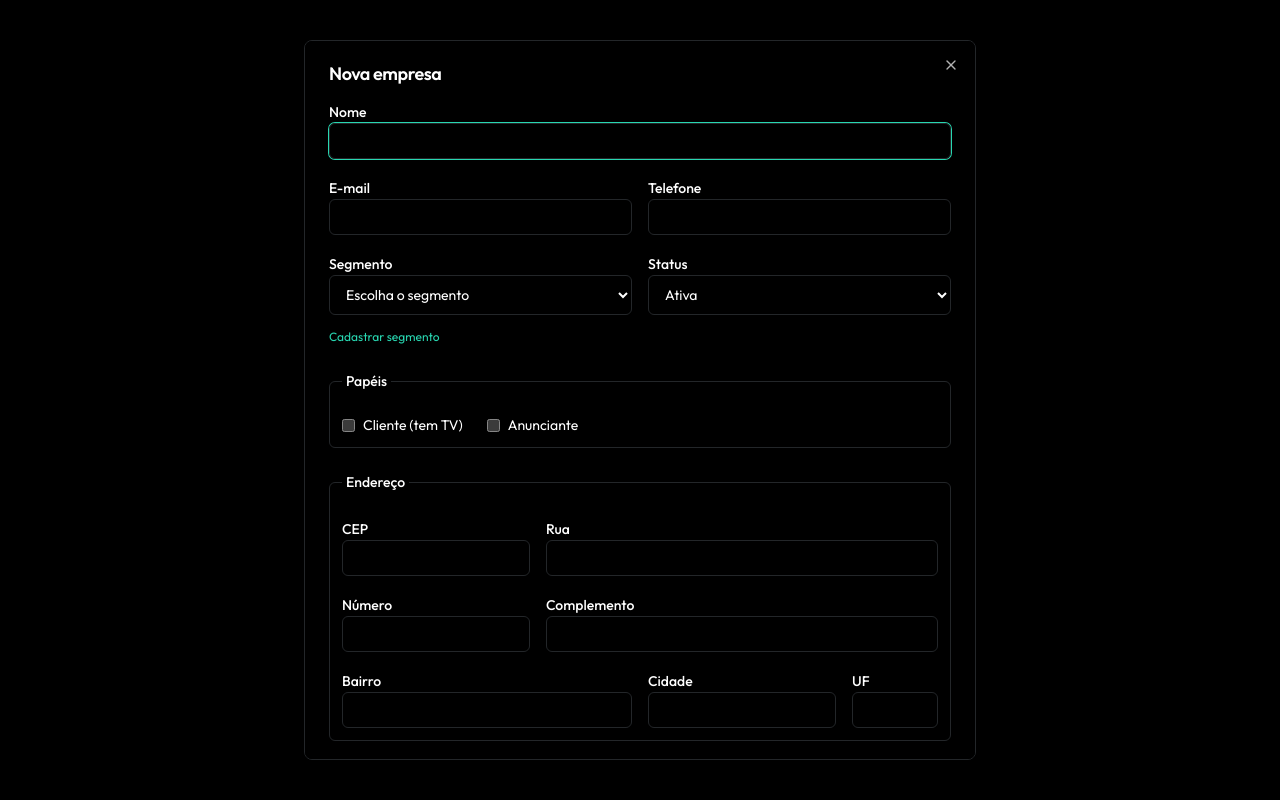
Test case: CompanyFormDialog › não envia sem papel marcado
Type "Padaria Central" into the field labelled "Nome".
click(640, 141); type("Padaria Central")  # box [329,123,951,159]
(page scrolled)
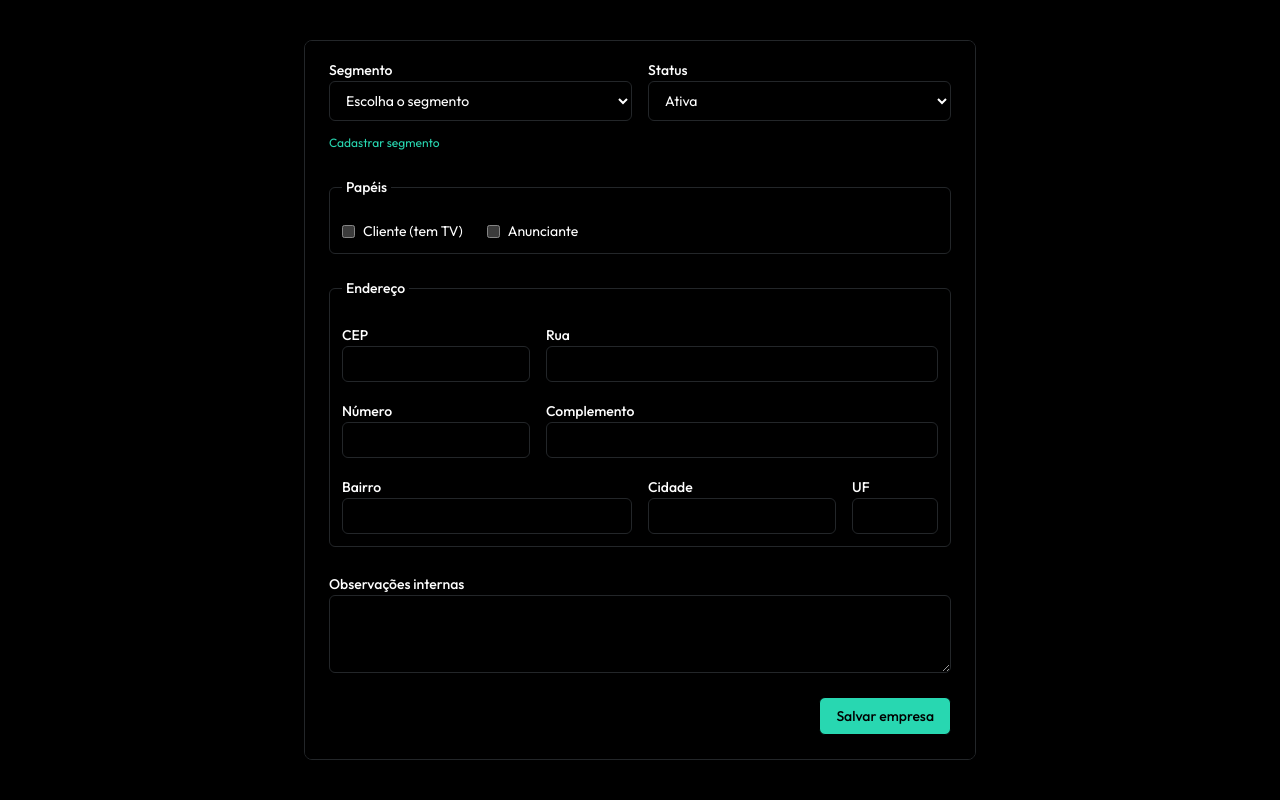
Click the button "Salvar empresa".
click(885, 716)  # box [819,697,951,735]
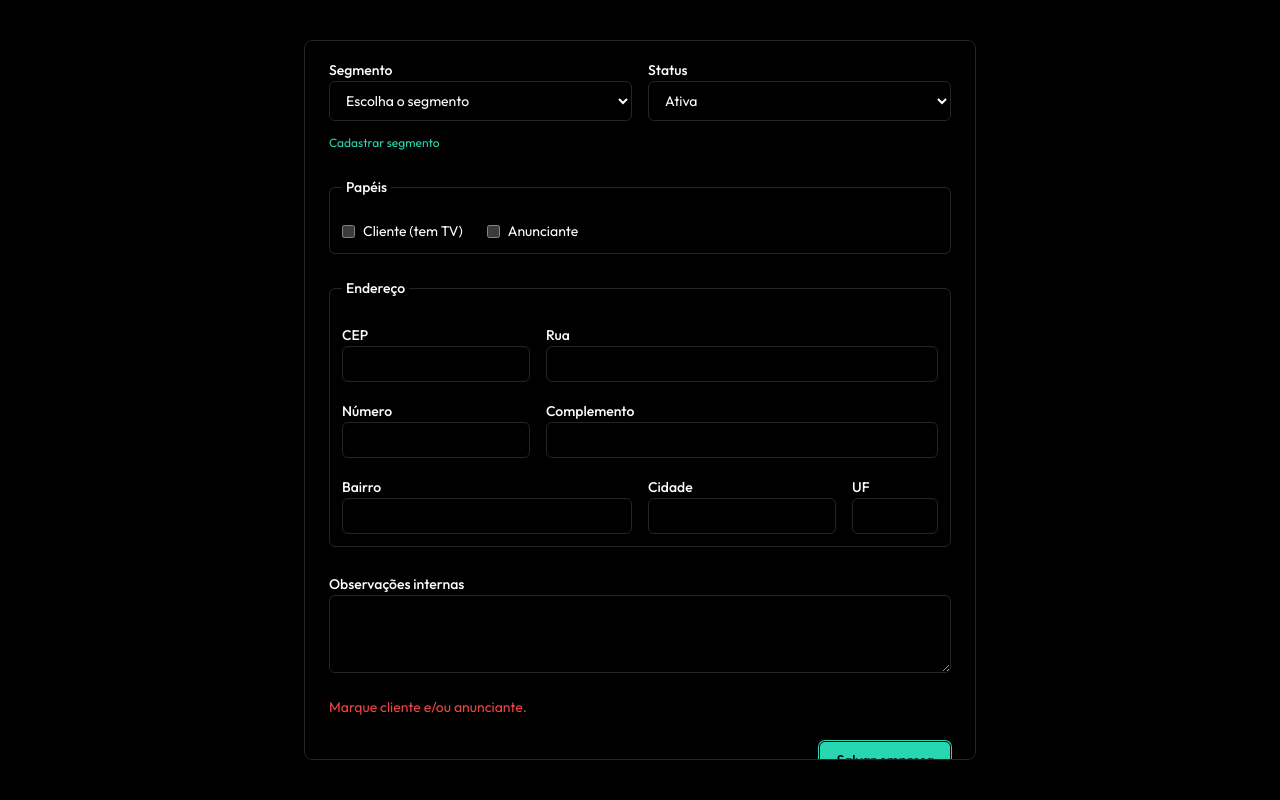
Expected: the text "Marque cliente e/ou anunciante." is shown, [329,698,527,716]
